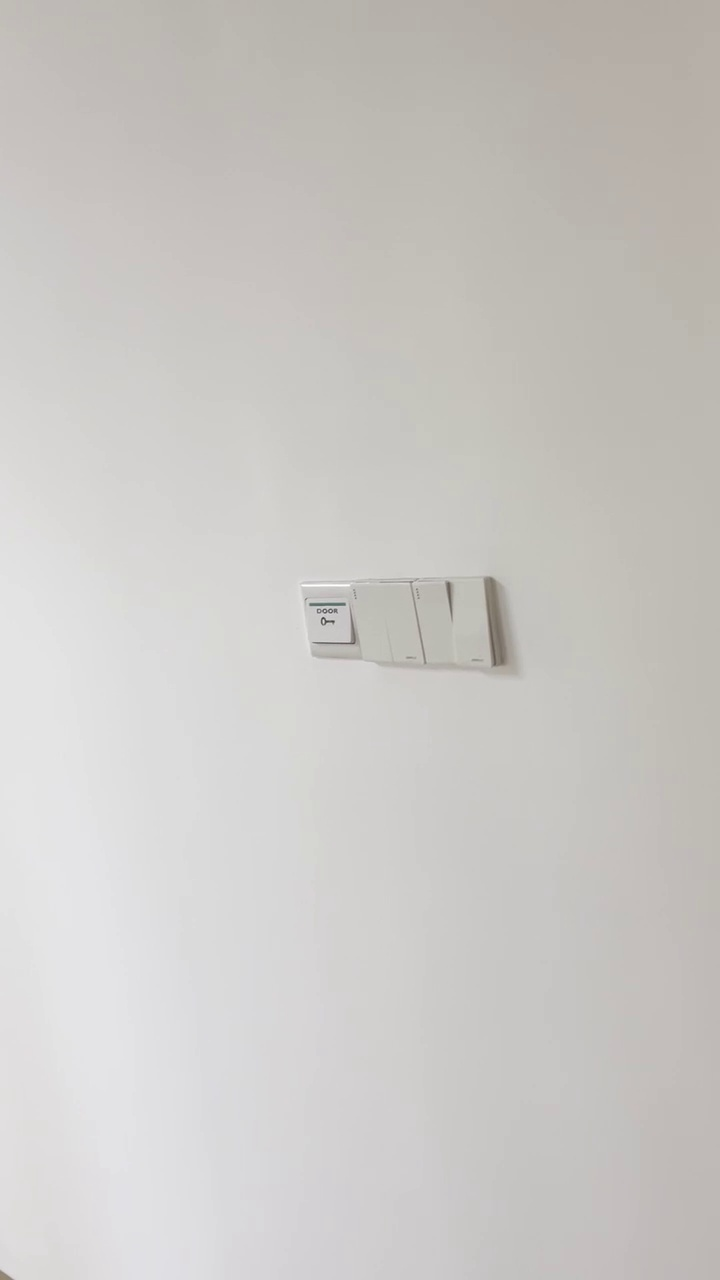button: (412, 576, 502, 667), (350, 577, 428, 665)
